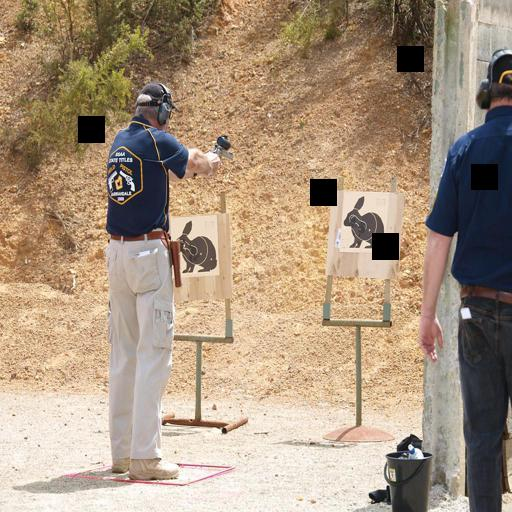Handgun: (208, 127, 236, 164)
